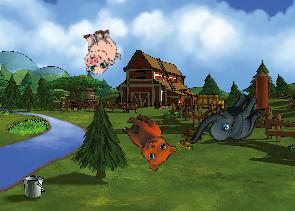bear: (111, 108, 182, 175)
elephant: (187, 78, 267, 165)
pig: (75, 26, 123, 76)
